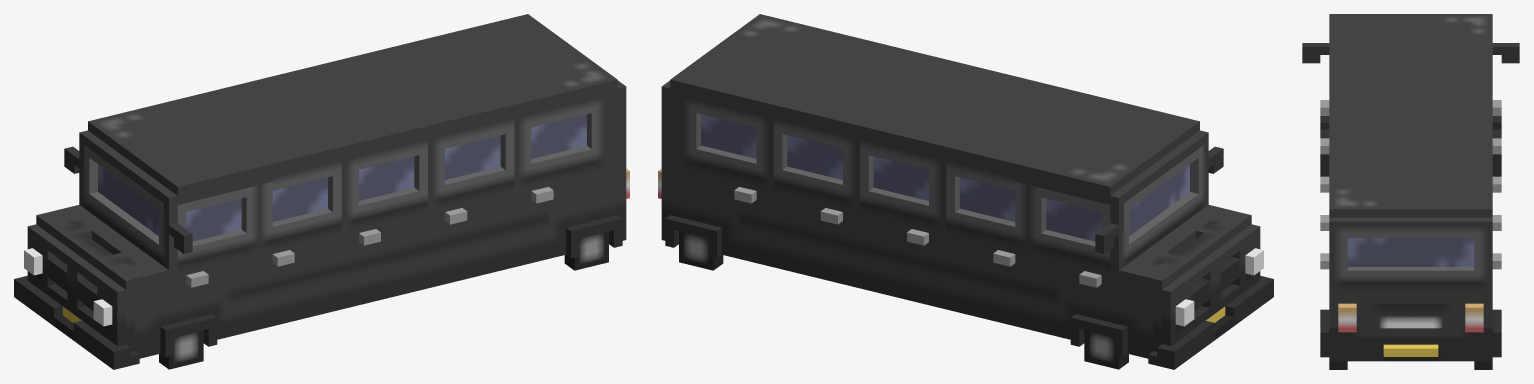
Rendered from blacklimo.obj.
3 views of the same model, side by side, from view 1: azimuth 30°, elevation 25°; view 2: azimuth 150°, elevation 25°; view 3: azimuth 270°, elevation 25° (orthographic). The views are drawn at different scales.
Visible parts, largest first — view 1: Box_97; view 2: Box_97; view 3: Box_97.
Part boxes in pixels (box(x1,y1,x2,y2)): Box_97: box(14, 14, 629, 369); Box_97: box(658, 14, 1273, 369); Box_97: box(1302, 14, 1519, 369).
Size of the model in its own units: 61 by 20 by 24.
1 material, 1 textured.
